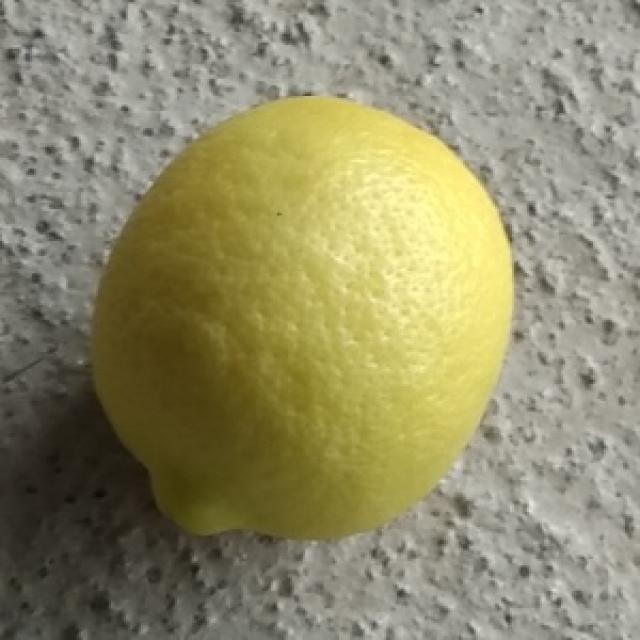Ripe: (83, 84, 521, 548)
